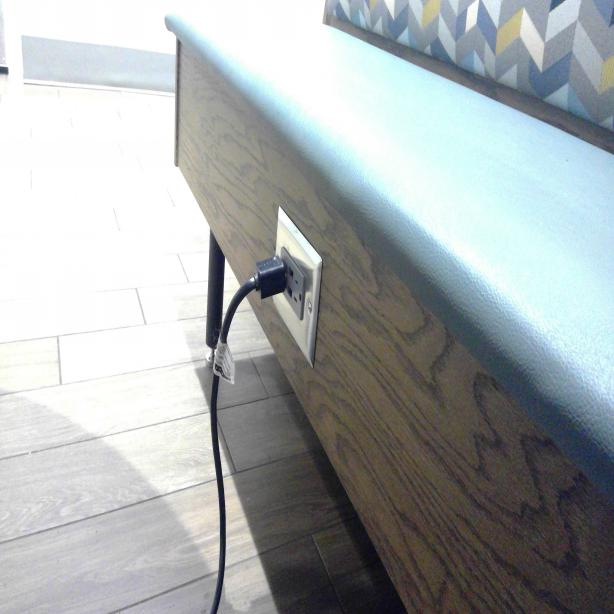typeb: (293, 268, 304, 316)
